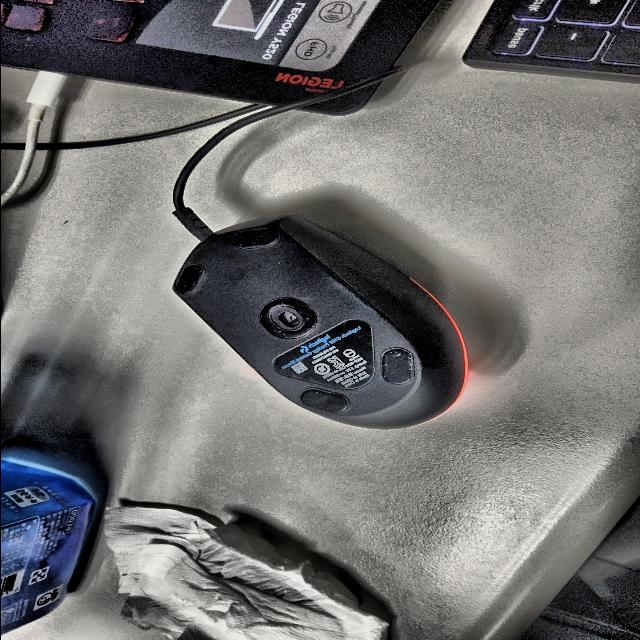laptop: (0, 0, 436, 105)
